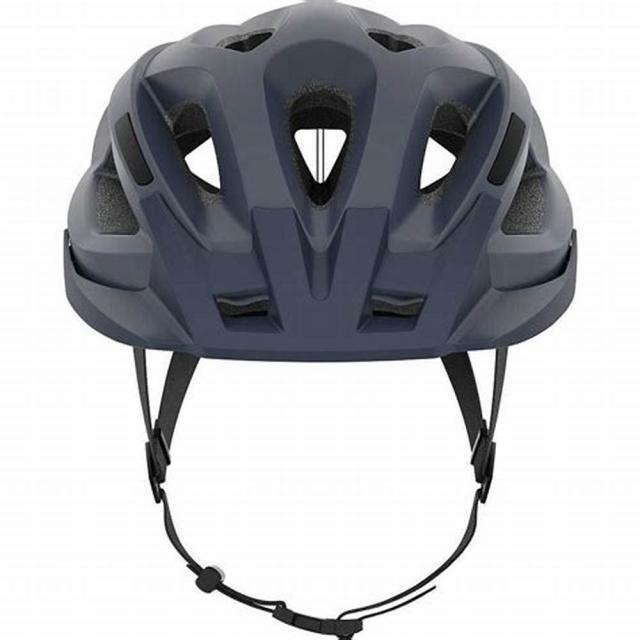illegal_helmet: (57, 0, 586, 640)
